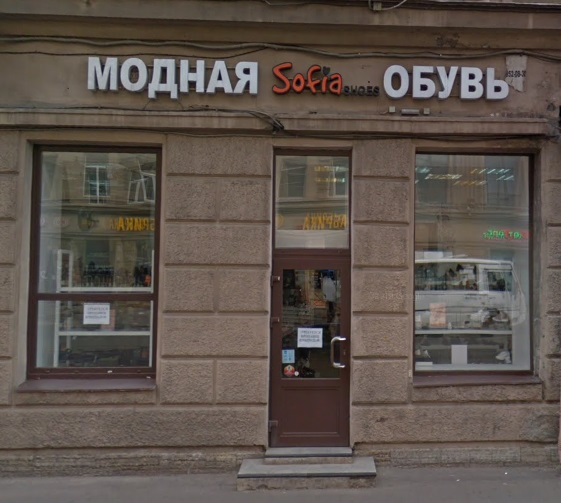door: (267, 255, 350, 448)
signboard: (89, 58, 509, 100)
window: (27, 146, 160, 377), (415, 149, 534, 373), (274, 151, 351, 251)
